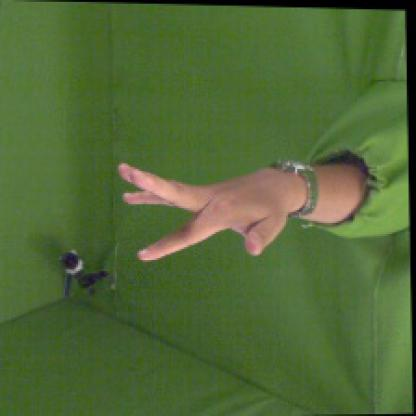Hand: (116, 163, 289, 262)
